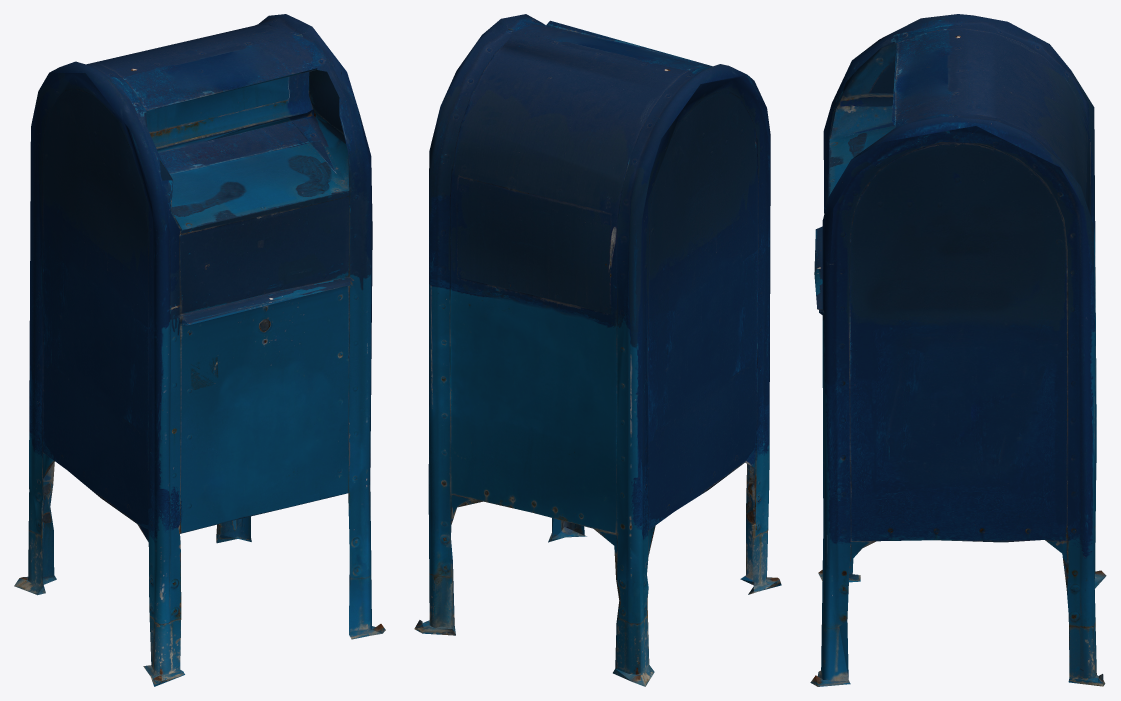
Rendered from SM_LaJiXiang.glb.
3 renders of one model, left to right at view 1: azimuth 30°, elevation 25°; view 2: azimuth 150°, elevation 25°; view 3: azimuth 270°, elevation 25°, orthographic.
Visible parts, largest first — view 1: SM_LaJiXiang; view 2: SM_LaJiXiang; view 3: SM_LaJiXiang.
Boxes of the visible parts, x1,y1,x2,y2 form: SM_LaJiXiang: [14, 14, 385, 686]; SM_LaJiXiang: [414, 14, 781, 686]; SM_LaJiXiang: [810, 14, 1106, 686].
Bounding box in the file's own units: 0.542 × 1.26 × 0.5937.
Materials: 1 (1 with a texture image).
